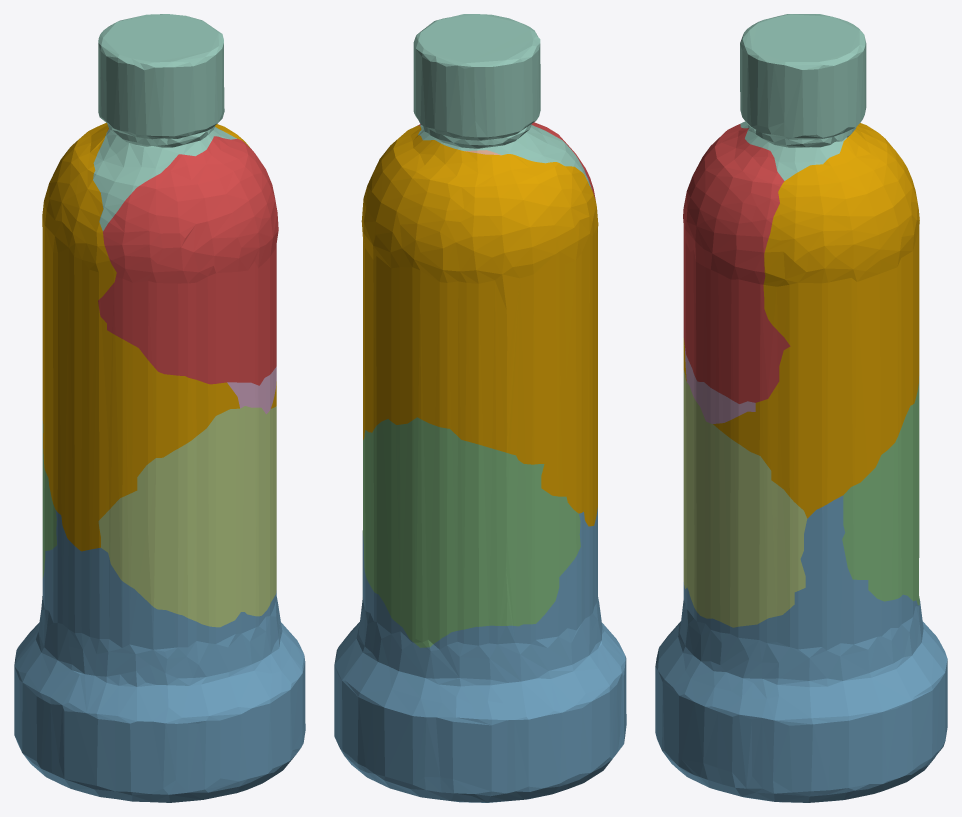
The model's file is mode_9_8pcs.glb.
3 renders of one model, left to right at view 1: azimuth 30°, elevation 25°; view 2: azimuth 150°, elevation 25°; view 3: azimuth 270°, elevation 25°, orthographic.
Parts seen in each view (by area): view 1: piece_2.obj, piece_0.obj, piece_1.obj, piece_5.obj, piece_4.obj, piece_6.obj, piece_3.obj; view 2: piece_0.obj, piece_2.obj, piece_3.obj, piece_4.obj; view 3: piece_2.obj, piece_0.obj, piece_1.obj, piece_5.obj, piece_4.obj, piece_3.obj, piece_6.obj.
Part boxes in pixels (x1=…): piece_2.obj: x1=14, y1=510, x2=305, y2=802; piece_0.obj: x1=42, y1=123, x2=276, y2=551; piece_1.obj: x1=98, y1=136, x2=278, y2=385; piece_5.obj: x1=98, y1=406, x2=276, y2=627; piece_4.obj: x1=93, y1=14, x2=236, y2=230; piece_6.obj: x1=227, y1=366, x2=276, y2=414; piece_3.obj: x1=42, y1=421, x2=56, y2=577; piece_0.obj: x1=361, y1=125, x2=598, y2=526; piece_2.obj: x1=334, y1=507, x2=626, y2=802; piece_3.obj: x1=362, y1=417, x2=580, y2=647; piece_4.obj: x1=413, y1=14, x2=591, y2=189; piece_2.obj: x1=655, y1=495, x2=947, y2=802; piece_0.obj: x1=683, y1=123, x2=919, y2=518; piece_1.obj: x1=683, y1=124, x2=790, y2=403; piece_5.obj: x1=683, y1=370, x2=807, y2=627; piece_4.obj: x1=740, y1=14, x2=866, y2=180; piece_3.obj: x1=842, y1=376, x2=919, y2=605; piece_6.obj: x1=684, y1=345, x2=755, y2=423.
Bounding box in the file's own units: 0.3732 × 1 × 0.3731.
